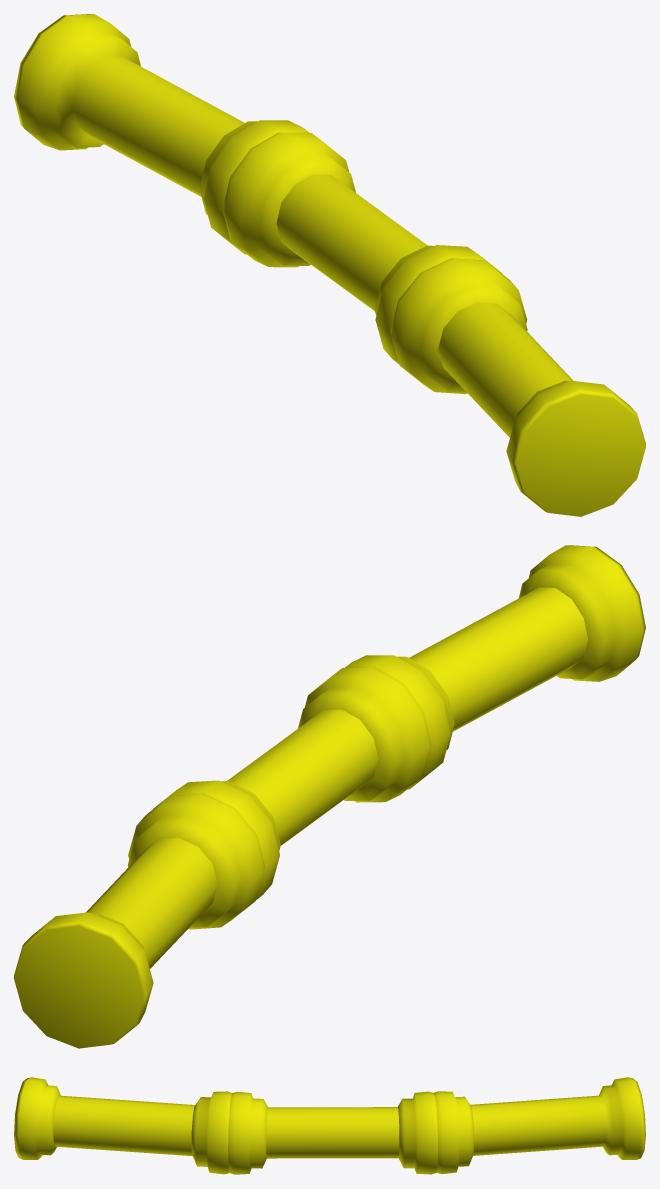
Rendered from Rail_Rock_02_Bend.fbx.
The picture shows the model from 3 angles, top to bottom: view 1: azimuth 30°, elevation 25°; view 2: azimuth 150°, elevation 25°; view 3: azimuth 270°, elevation 25°; orthographic projection. The views are drawn at different scales.
Visible parts, largest first — view 1: Rail_Rock_02_Bend; view 2: Rail_Rock_02_Bend; view 3: Rail_Rock_02_Bend.
Part boxes in pixels (box(x1,y1,x2,y2)): Rail_Rock_02_Bend: box(14, 14, 645, 516); Rail_Rock_02_Bend: box(14, 545, 645, 1048); Rail_Rock_02_Bend: box(14, 1077, 645, 1174).
Size of the model in its own units: 34.52 by 26.18 by 194.
